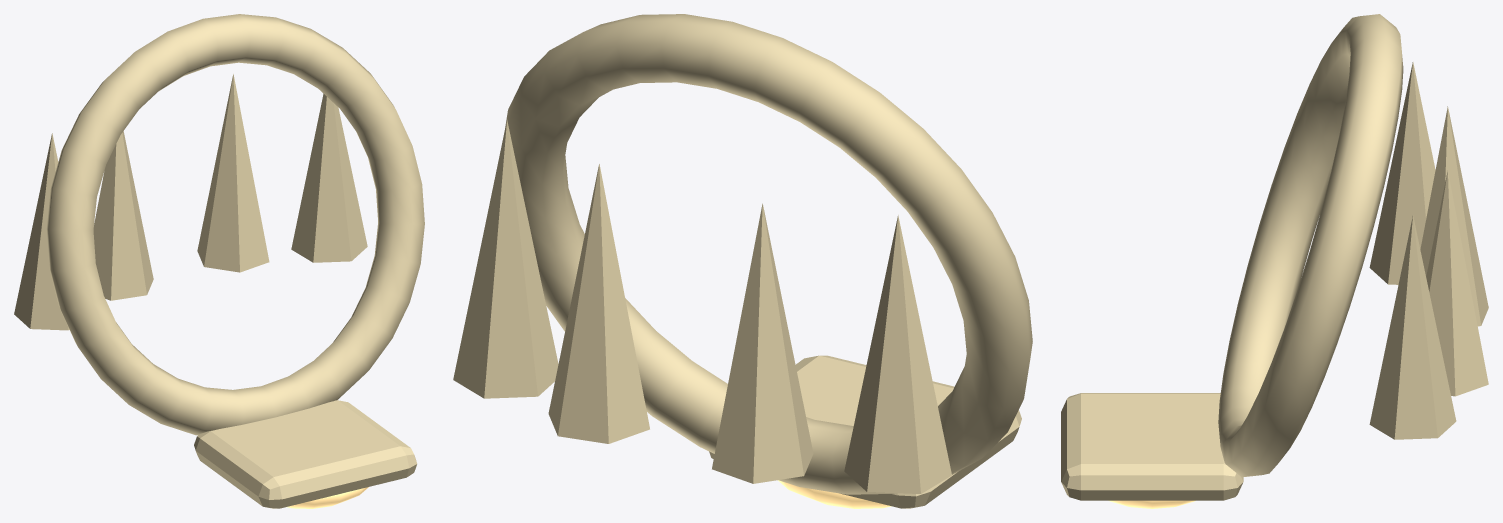
File: hero_01_detail.glb
The picture shows the model from 3 angles, left to right: view 1: azimuth 30°, elevation 25°; view 2: azimuth 150°, elevation 25°; view 3: azimuth 270°, elevation 25°; orthographic projection. The views are drawn at different scales.
Visible parts, largest first — view 1: Aelin_LighthouseHalo, Aelin_LensFrame, Aelin_SunRay_03, Aelin_SunRay_02, Aelin_SunRay_01, Aelin_SunRay_00, Aelin_BeaconLens; view 2: Aelin_LighthouseHalo, Aelin_SunRay_00, Aelin_SunRay_03, Aelin_SunRay_01, Aelin_SunRay_02, Aelin_LensFrame, Aelin_BeaconLens; view 3: Aelin_LighthouseHalo, Aelin_LensFrame, Aelin_SunRay_03, Aelin_SunRay_02, Aelin_SunRay_00, Aelin_SunRay_01, Aelin_BeaconLens.
Boxes of the visible parts, box(x1,y1,x2,y2) form: Aelin_LighthouseHalo: box(46, 14, 424, 435); Aelin_LensFrame: box(194, 400, 417, 508); Aelin_SunRay_03: box(291, 93, 367, 262); Aelin_SunRay_02: box(197, 74, 269, 272); Aelin_SunRay_01: box(93, 131, 153, 300); Aelin_SunRay_00: box(14, 133, 69, 330); Aelin_BeaconLens: box(286, 487, 368, 508); Aelin_LighthouseHalo: box(505, 14, 1032, 494); Aelin_SunRay_00: box(844, 215, 951, 493); Aelin_SunRay_03: box(453, 120, 558, 398); Aelin_SunRay_01: box(712, 203, 813, 483); Aelin_SunRay_02: box(548, 164, 649, 443); Aelin_LensFrame: box(709, 355, 1021, 508); Aelin_BeaconLens: box(778, 480, 891, 508); Aelin_LighthouseHalo: box(1218, 14, 1403, 477); Aelin_LensFrame: box(1061, 393, 1243, 500); Aelin_SunRay_03: box(1369, 215, 1456, 439); Aelin_SunRay_02: box(1426, 170, 1488, 396); Aelin_SunRay_00: box(1369, 62, 1435, 284); Aelin_SunRay_01: box(1420, 106, 1488, 326); Aelin_BeaconLens: box(1108, 500, 1195, 508).
Size of the model in its own units: 0.61 by 0.6351 by 0.5394.
